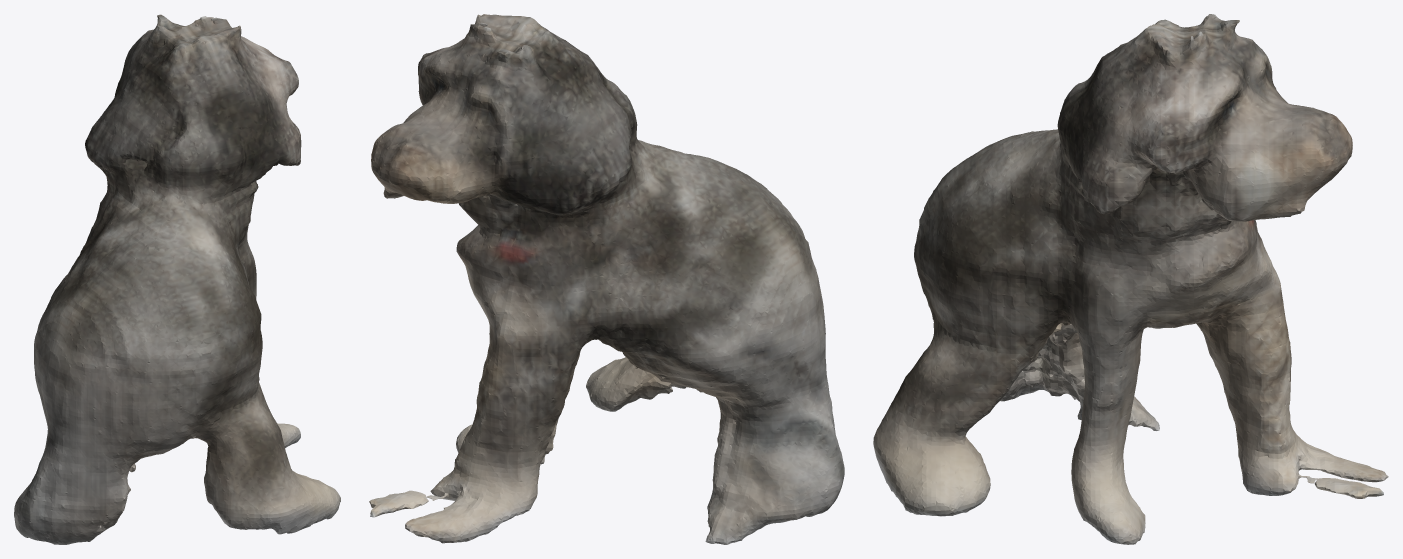
Rendered from tmpqjnrme7r.glb.
3 views of the same model, side by side, from view 1: azimuth 30°, elevation 25°; view 2: azimuth 150°, elevation 25°; view 3: azimuth 270°, elevation 25° (orthographic). The views are drawn at different scales.
Visible parts, largest first — view 1: world; view 2: world; view 3: world.
Boxes of the visible parts, <box> form: world: <box>14,14,340,544</box>; world: <box>369,14,844,544</box>; world: <box>873,14,1388,544</box>.
Bounding box in the file's own units: 1.53 × 1.93 × 1.8.
